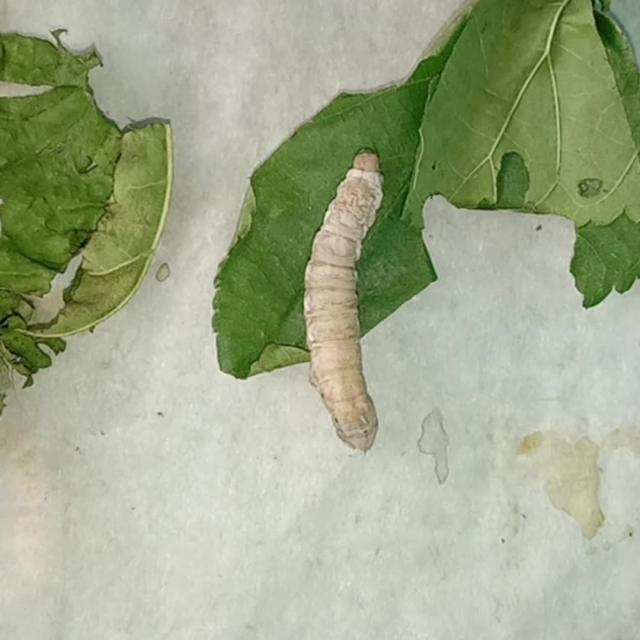Grasserie: (276, 116, 443, 496)
